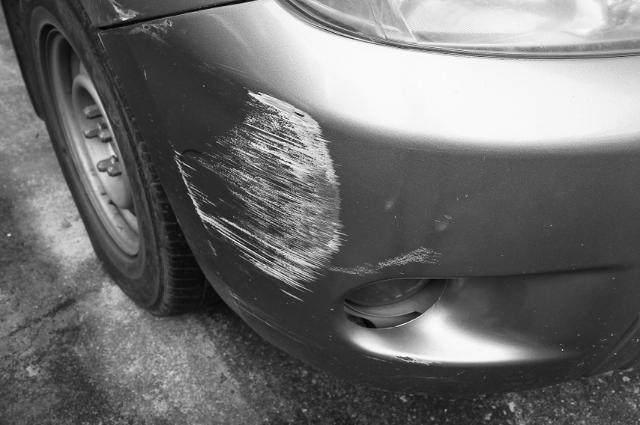Bumper: (114, 29, 479, 345)
